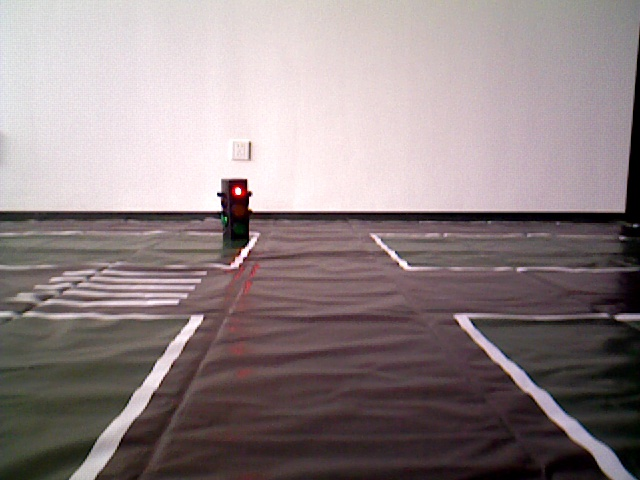red: (220, 180, 246, 240)
